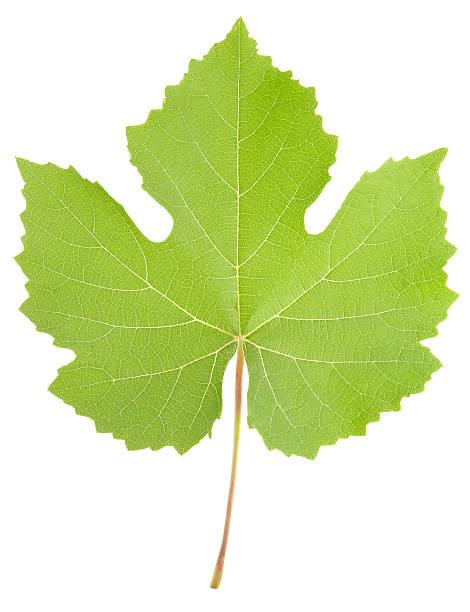grape leaf black rot: (4, 9, 457, 541)
